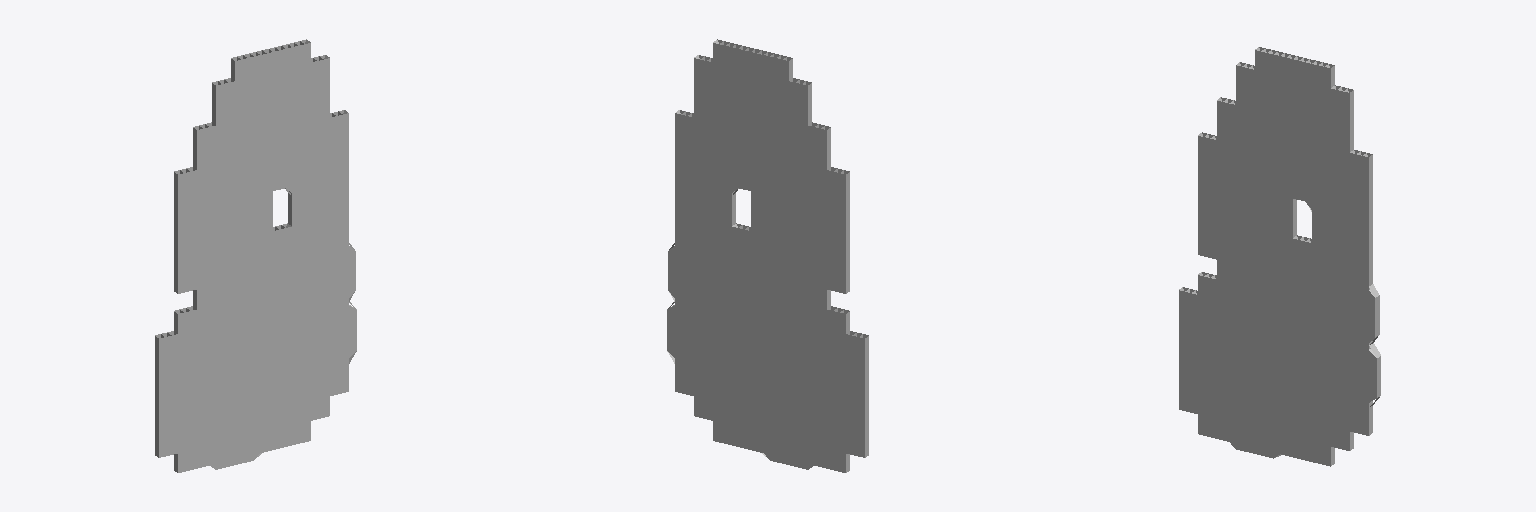
Rendered from 3d_Ashenvale - Mystral Lake.wlw.obj.
The picture shows the model from 3 angles: view 1: azimuth 30°, elevation 25°; view 2: azimuth 150°, elevation 25°; view 3: azimuth 330°, elevation 25°; orthographic projection.
Size of the model in its own units: 261 by 507 by 10.